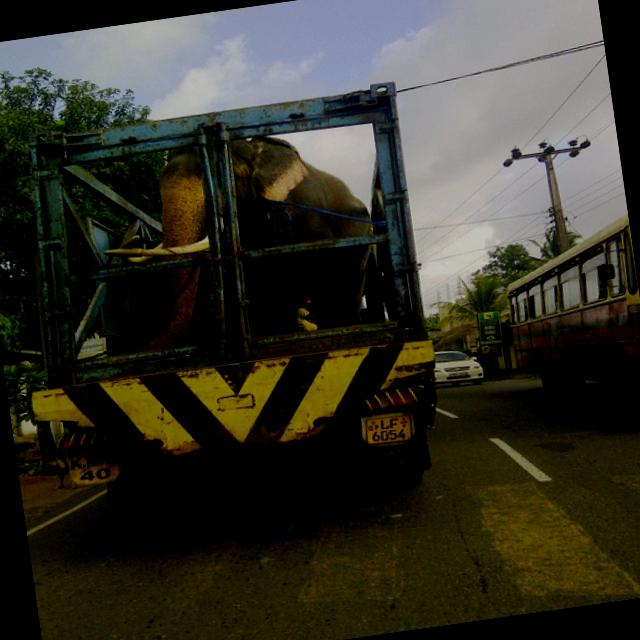Vehicle: (0, 82, 454, 538), (496, 206, 640, 434), (430, 344, 486, 390)
